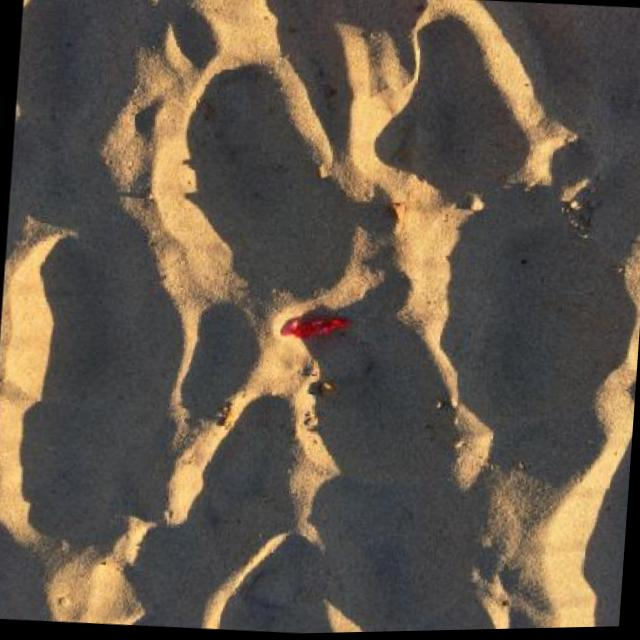plastic: (292, 315, 348, 342)
